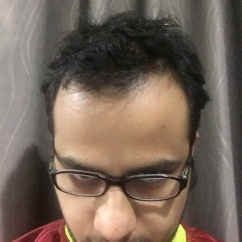glasses: (49, 163, 192, 197)
